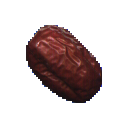ng: (19, 19, 110, 110)
